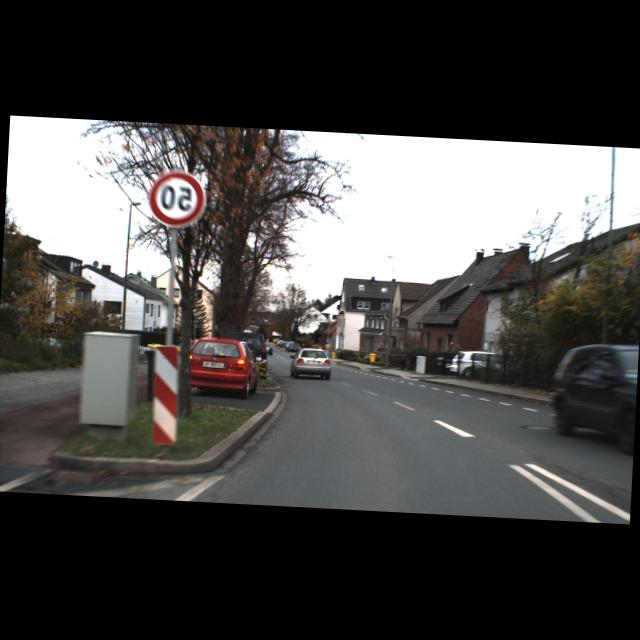prohibitory: (148, 170, 206, 228)
